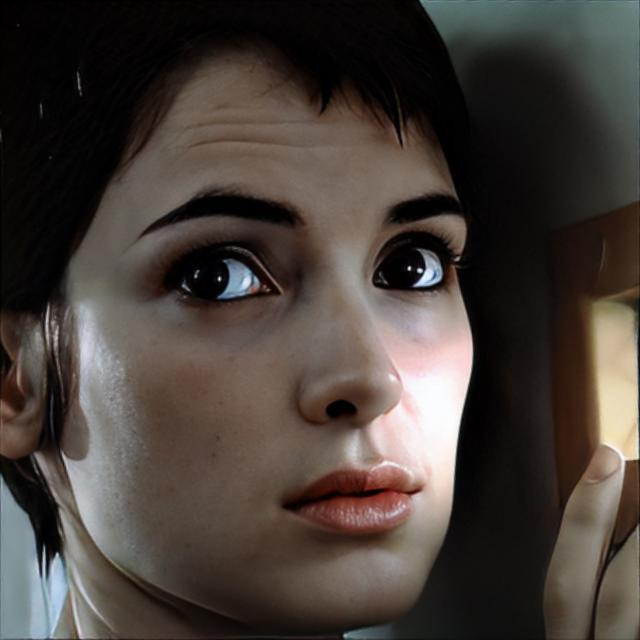fear: (50, 42, 477, 630)
